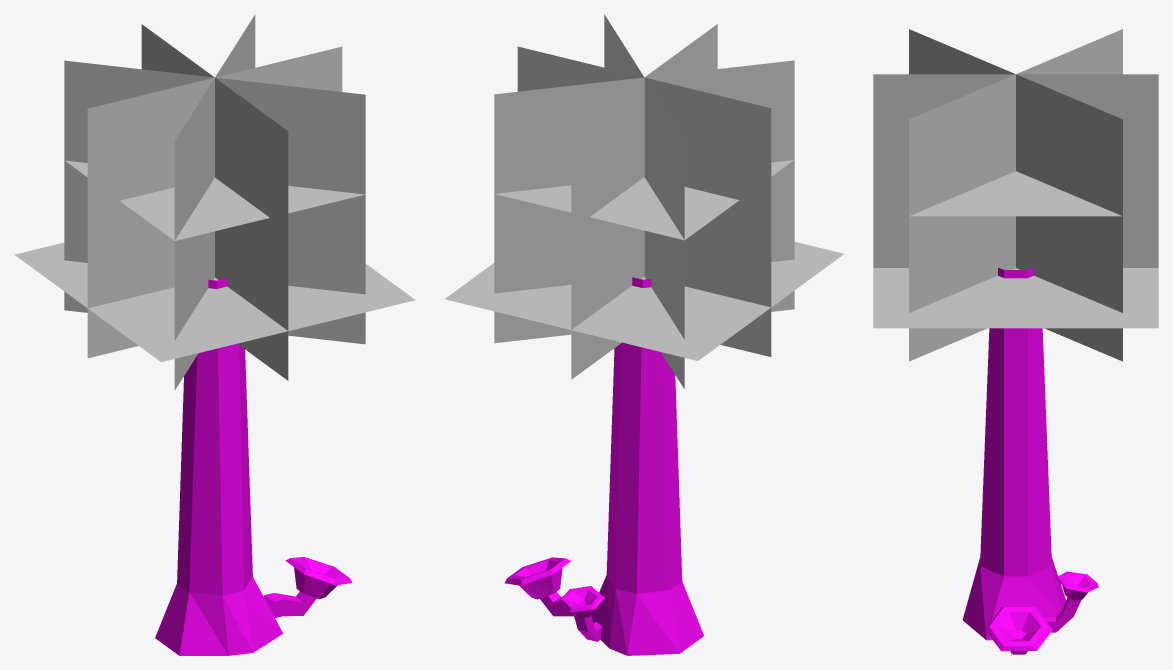
File: totemtreerotten2.obj
3 renders of one model, left to right at view 1: azimuth 30°, elevation 25°; view 2: azimuth 150°, elevation 25°; view 3: azimuth 270°, elevation 25°, orthographic. The views are drawn at different scales.
Parts seen in each view (by area): view 1: totemtreerotten2_back; view 2: totemtreerotten2_back; view 3: totemtreerotten2_back.
Boxes of the visible parts, x1,y1,x2,y2 form: totemtreerotten2_back: (14, 14, 415, 655); totemtreerotten2_back: (444, 14, 843, 655); totemtreerotten2_back: (873, 29, 1158, 655).
Size of the model in its own units: 1.94 by 4.02 by 1.92.
